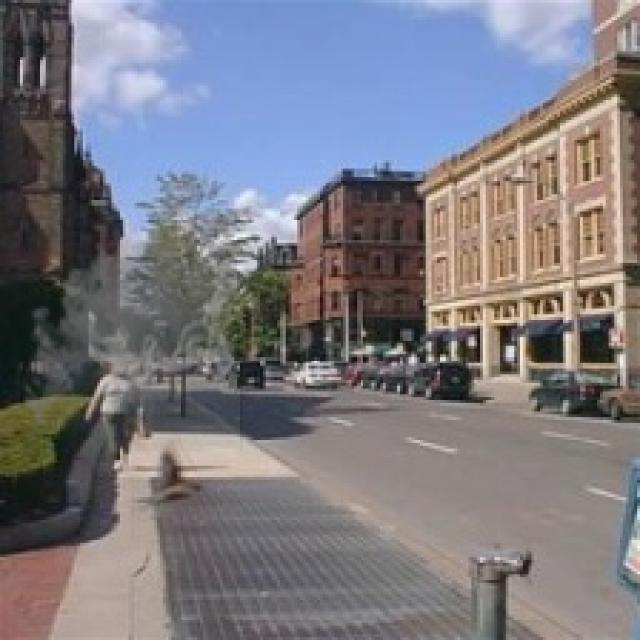smoke: (17, 214, 243, 452)
